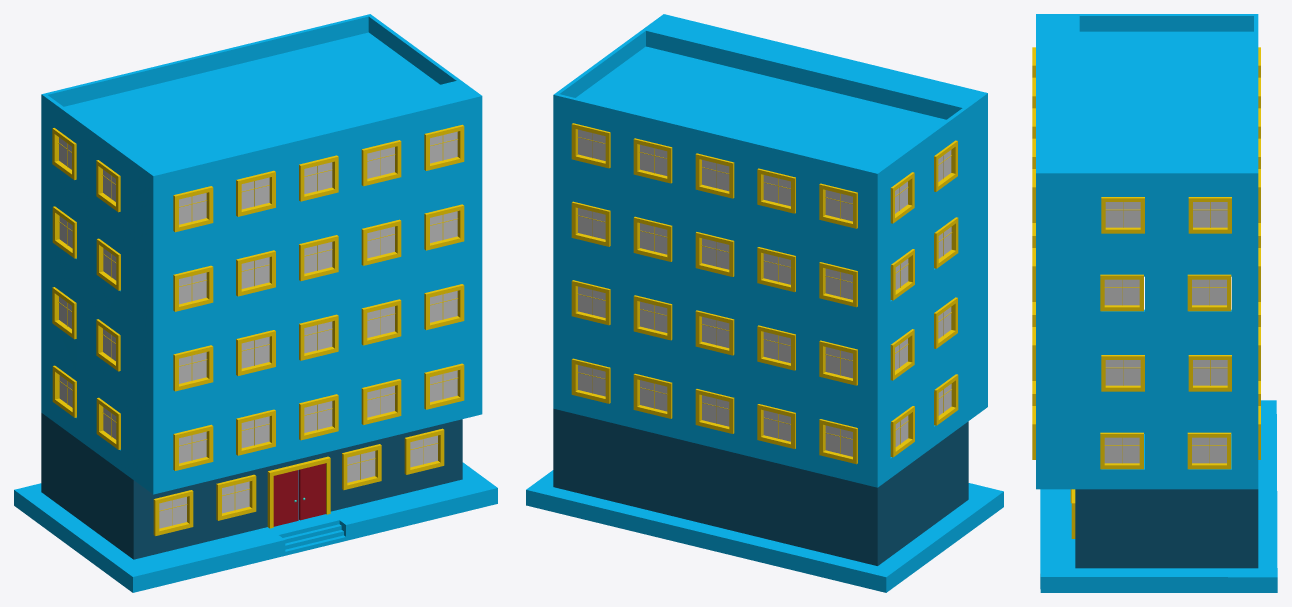
File: build4.fbx
The picture shows the model from 3 angles, left to right: view 1: azimuth 30°, elevation 25°; view 2: azimuth 150°, elevation 25°; view 3: azimuth 270°, elevation 25°; orthographic projection.
Parts seen in each view (by area): view 1: BUILD_4; view 2: BUILD_4; view 3: BUILD_4.
Part boxes in pixels (<box>): BUILD_4: <box>14,14,497,592</box>; BUILD_4: <box>526,14,1003,592</box>; BUILD_4: <box>1032,14,1277,592</box>.
Size of the model in its own units: 18912 by 20472 by 11067.
Materials: 6 (6 with a texture image).
